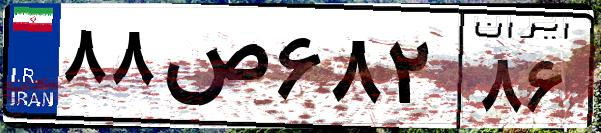2: (385, 28, 445, 110)
6: (270, 28, 330, 110), (525, 38, 570, 115)
8: (330, 28, 385, 110), (57, 26, 110, 100), (475, 38, 525, 113), (110, 28, 158, 98)
ص: (158, 20, 270, 120)
